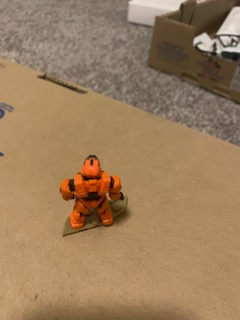soldier: (61, 153, 124, 233)
